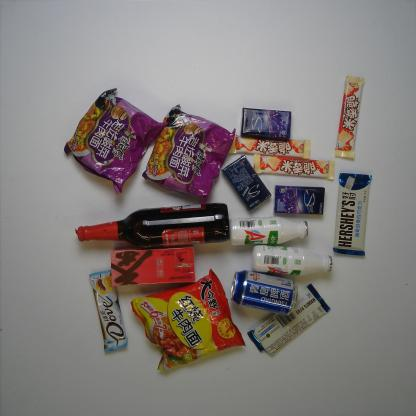Alcohol: (75, 200, 233, 252), (228, 269, 299, 317)
Chocolate: (245, 281, 333, 359), (331, 171, 373, 259), (88, 268, 130, 354), (333, 75, 366, 160), (251, 152, 336, 181), (226, 133, 312, 161)
Gum: (220, 154, 272, 212), (239, 106, 293, 142), (273, 184, 326, 216)
Instant Drink: (108, 244, 198, 288)
Instant Noodles: (129, 266, 248, 374), (62, 85, 171, 196), (140, 102, 237, 207)
Milk: (249, 242, 336, 277), (226, 214, 310, 248)
